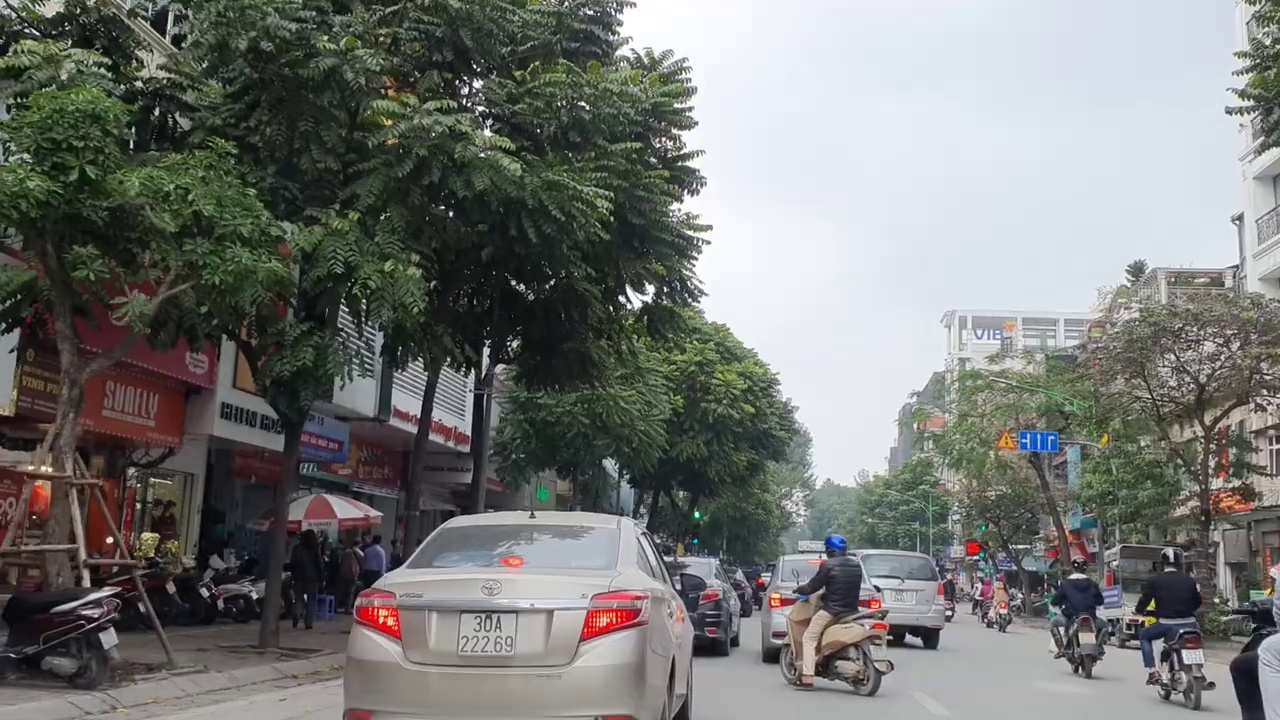vehicle-plate: (1180, 648, 1207, 665), (868, 645, 889, 659), (890, 589, 908, 603), (1077, 631, 1096, 644)
